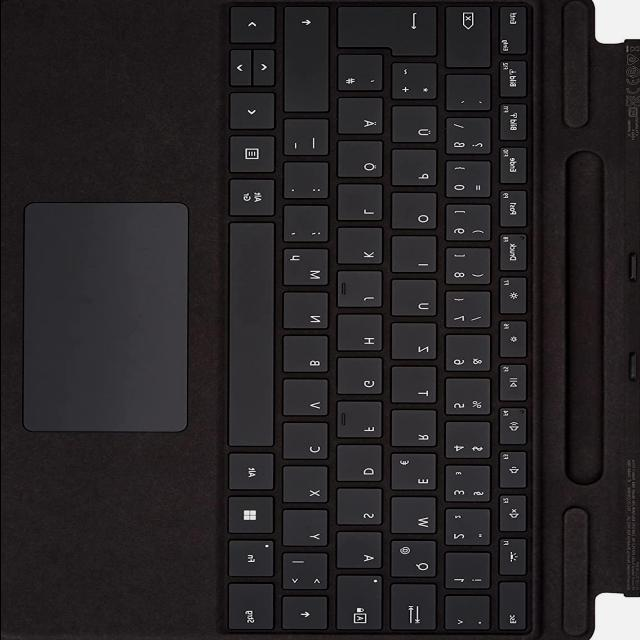0: (446, 162, 495, 202)
1: (446, 554, 495, 592)
2: (445, 510, 495, 550)
3: (446, 467, 496, 507)
4: (446, 424, 495, 462)
5: (447, 380, 495, 420)
6: (447, 337, 495, 375)
7: (446, 293, 494, 331)
8: (446, 250, 494, 288)
9: (446, 206, 496, 245)
a: (338, 534, 386, 572)
accent: (447, 77, 496, 115)
ae: (339, 100, 387, 138)
alt-left: (229, 454, 277, 494)
altgr-right: (230, 179, 278, 219)
b: (284, 338, 332, 377)
c: (284, 424, 332, 463)
caret: (446, 598, 496, 634)
comma: (284, 207, 333, 246)
d: (337, 447, 386, 485)
del: (446, 7, 495, 71)
e: (391, 455, 440, 494)
enter: (336, 7, 441, 59)
f: (338, 403, 387, 442)
g: (338, 360, 386, 398)
h: (339, 316, 387, 355)
hash: (338, 56, 388, 94)
i: (393, 238, 441, 276)
j: (339, 273, 387, 311)
k: (338, 230, 387, 268)
keyboard: (215, 0, 547, 640)
l: (339, 186, 387, 224)
less: (283, 554, 333, 594)
m: (283, 251, 333, 290)
minus: (285, 121, 333, 160)
n: (284, 294, 332, 333)
o: (392, 195, 441, 233)
oe: (338, 143, 388, 181)
p: (392, 151, 441, 190)
plus: (392, 64, 442, 103)
point: (285, 163, 333, 203)
q: (391, 541, 440, 582)
r: (393, 412, 441, 450)
s: (338, 491, 386, 529)
shift-left: (283, 598, 332, 633)
shift-lock: (337, 576, 387, 634)
shift-right: (284, 7, 334, 115)
space: (229, 222, 279, 450)
ss: (446, 120, 495, 159)
strg-left: (228, 585, 278, 636)
t: (393, 368, 441, 406)
tab: (391, 586, 441, 634)
u: (392, 281, 441, 320)
ue: (392, 108, 442, 147)
v: (284, 381, 332, 420)
w: (392, 499, 441, 538)
x: (284, 467, 332, 506)
y: (283, 511, 332, 550)
z: (393, 325, 441, 363)
